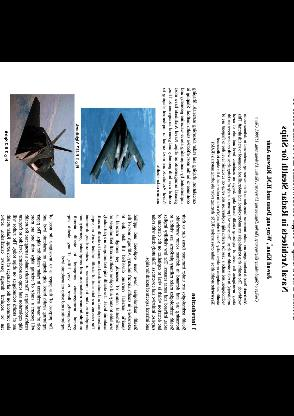B1: (90, 113, 146, 182)
E7: (14, 96, 74, 194)
